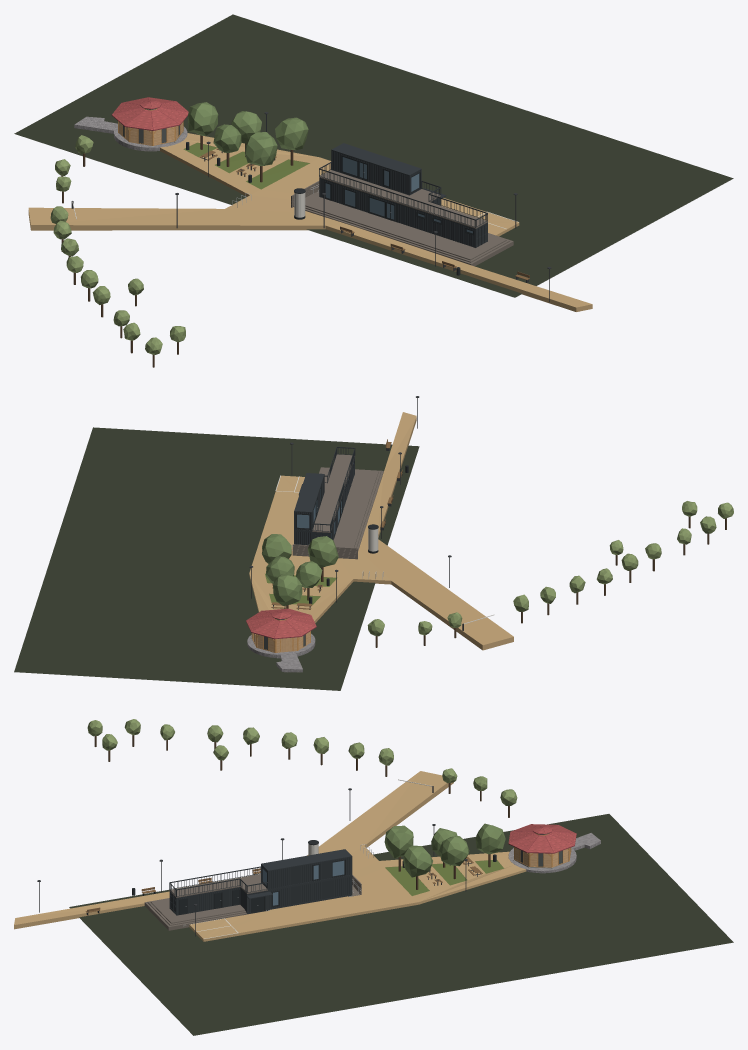
The picture shows the model from 3 angles, top to bottom: view 1: azimuth 30°, elevation 25°; view 2: azimuth 150°, elevation 25°; view 3: azimuth 270°, elevation 25°; orthographic projection. The views are drawn at different scales.
Visible parts, largest first — view 1: Backing, Site, Building, Existing, Trees, Furniture; view 2: Backing, Site, Existing, Building, Trees, Furniture; view 3: Backing, Site, Building, Existing, Trees, Furniture.
Part boxes in pixels (<box>): Backing: <box>14,14,733,297</box>; Site: <box>28,133,592,311</box>; Building: <box>291,143,513,266</box>; Existing: <box>50,97,188,367</box>; Trees: <box>188,102,308,182</box>; Furniture: <box>71,112,551,302</box>; Backing: <box>14,427,419,690</box>; Site: <box>249,412,513,650</box>; Existing: <box>246,501,733,672</box>; Building: <box>292,447,383,559</box>; Trees: <box>262,534,338,608</box>; Furniture: <box>249,396,494,630</box>; Backing: <box>69,814,733,1035</box>; Site: <box>14,771,526,941</box>; Building: <box>144,849,361,930</box>; Existing: <box>87,719,600,873</box>; Trees: <box>384,823,505,889</box>; Furniture: <box>37,779,496,936</box>.
Size of the model in its own units: 91.27 by 6.84 by 96.18.
25 materials, 5 textured.
